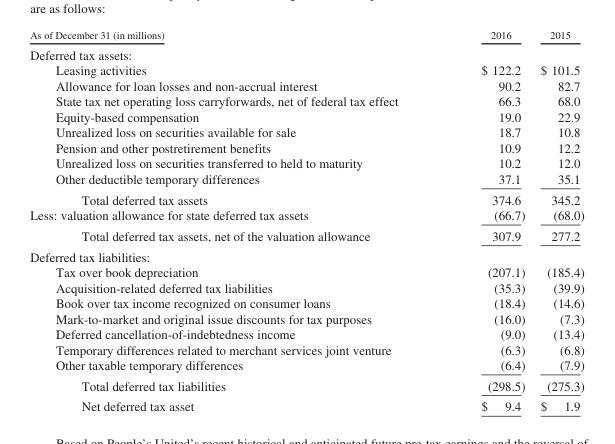table: (29, 28, 583, 413)
table column: (29, 28, 439, 413), (439, 28, 532, 413), (532, 28, 583, 413)
table column header: (29, 28, 583, 43)
table projected row header: (29, 43, 583, 62), (29, 245, 583, 263)
table row: (29, 374, 583, 395), (29, 225, 583, 245), (29, 43, 583, 62), (29, 188, 583, 207), (29, 170, 583, 188), (29, 207, 583, 225), (29, 245, 583, 263), (29, 356, 583, 374), (29, 395, 583, 413), (29, 77, 583, 93), (29, 108, 583, 124), (29, 139, 583, 155), (29, 263, 583, 279), (29, 294, 583, 310), (29, 325, 583, 341), (29, 28, 583, 43), (29, 62, 583, 77), (29, 93, 583, 108), (29, 124, 583, 139), (29, 155, 583, 170), (29, 279, 583, 294), (29, 310, 583, 325), (29, 341, 583, 356)
